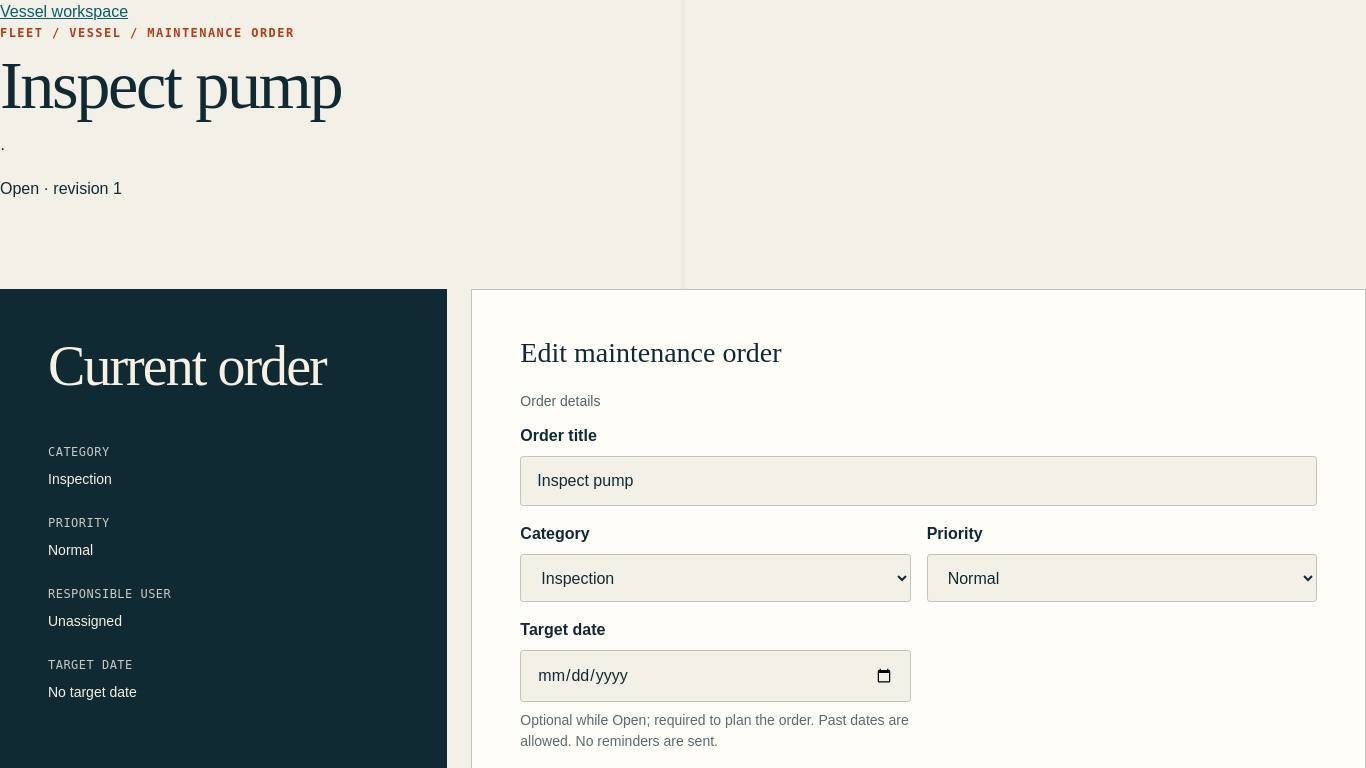
Scenario: refreshes history after a confirmed edit and retries history alone if that read fails
Replace the text in the field labelled "Order title" with "Saved order title" at (919, 481), box [520,456,1317,506]
(page scrolled)
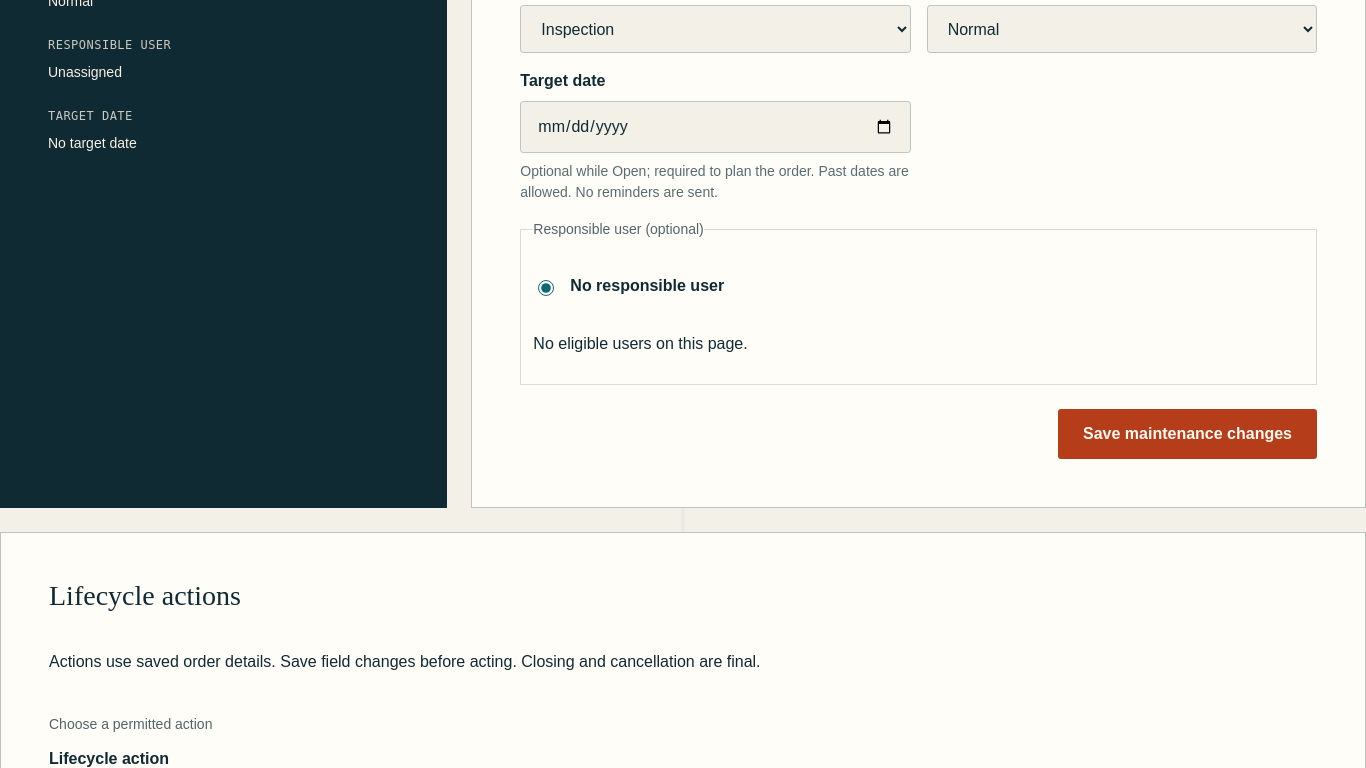
Click the button "Save maintenance changes" at (1188, 434), box [1058,409,1317,459]
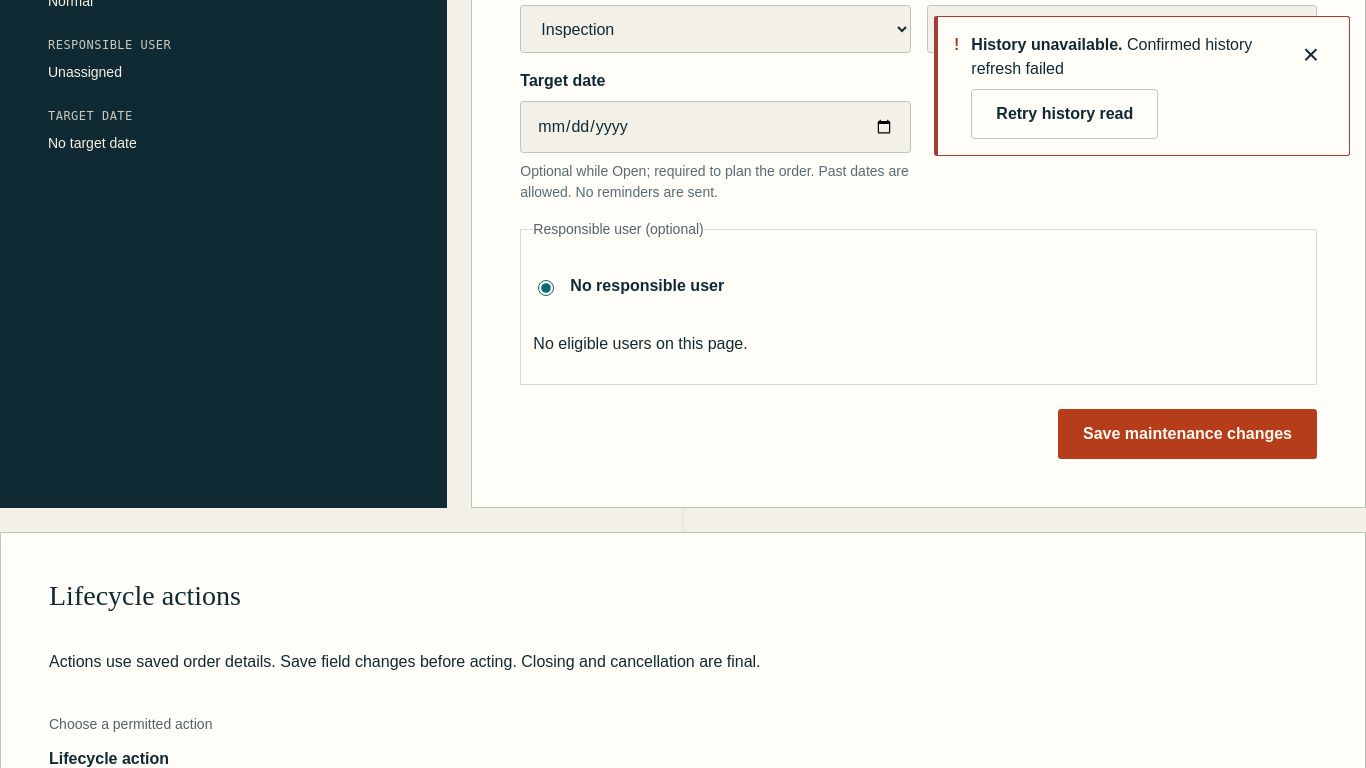
Result: the text "Confirmed history refresh failed" is shown at [971,36,1252,77]
Result: the text "Maintenance changes saved. The write is confirmed." is shown at [979,33,1277,81]
Click the button named "Dismiss notification" at (1311, 55), box [1289,33,1333,77]
(page scrolled)
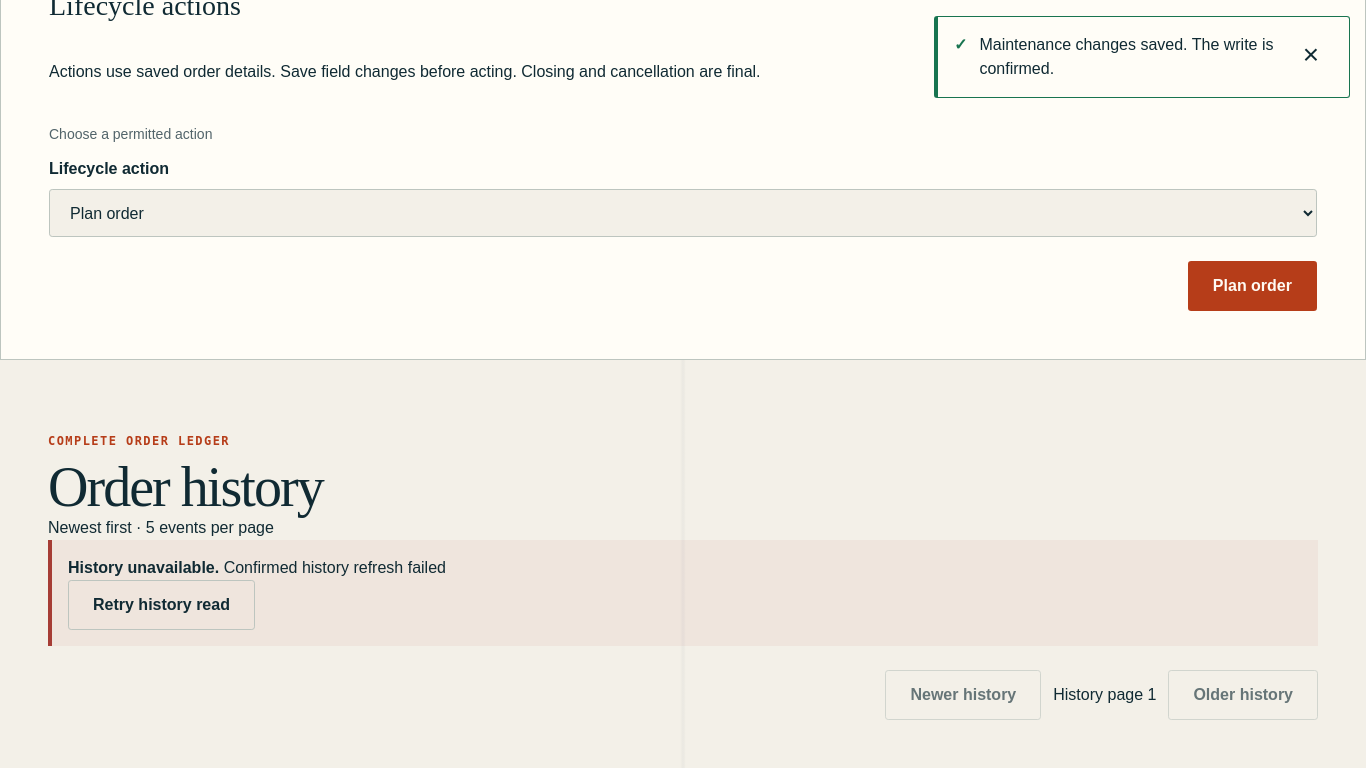
Click the button "Retry history read" at (161, 606), box [68,580,255,630]
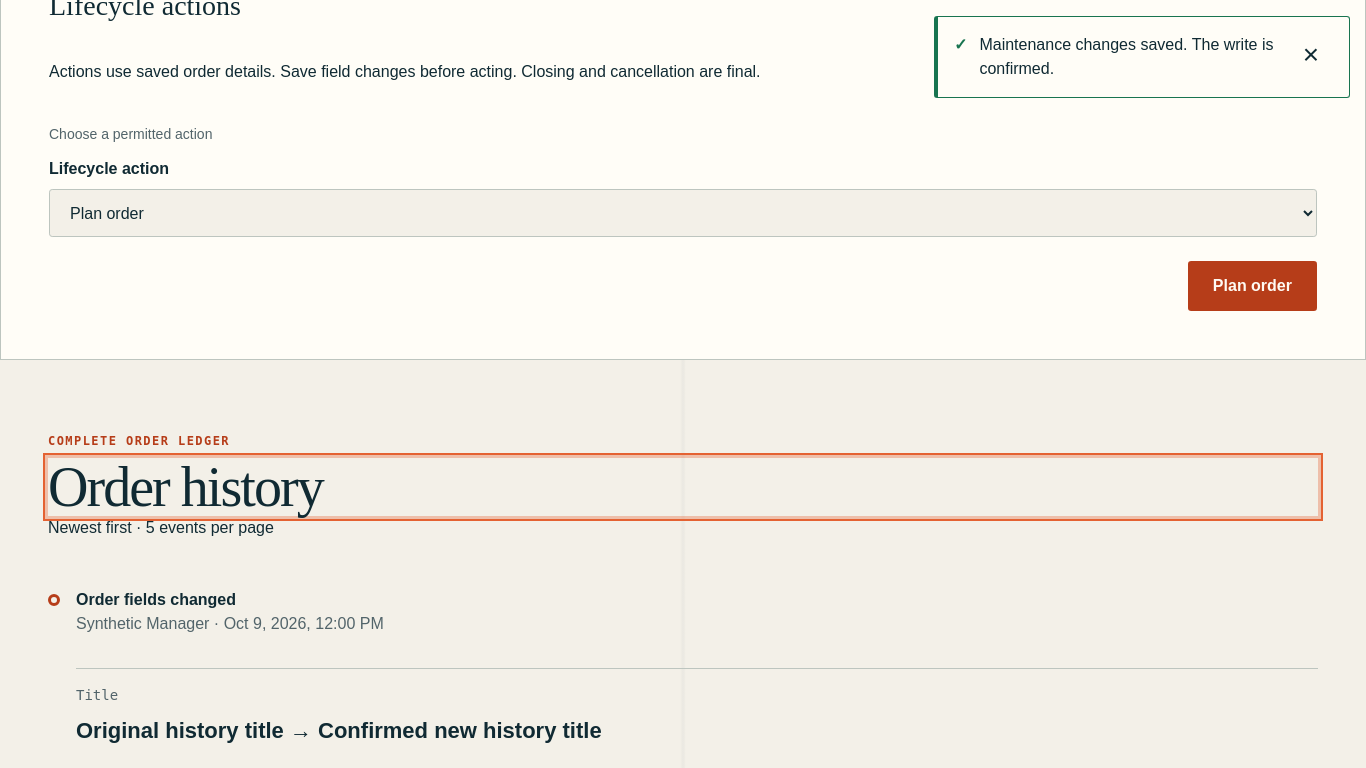
Result: the text "Confirmed new history title" is shown at [318,718,602,744]
